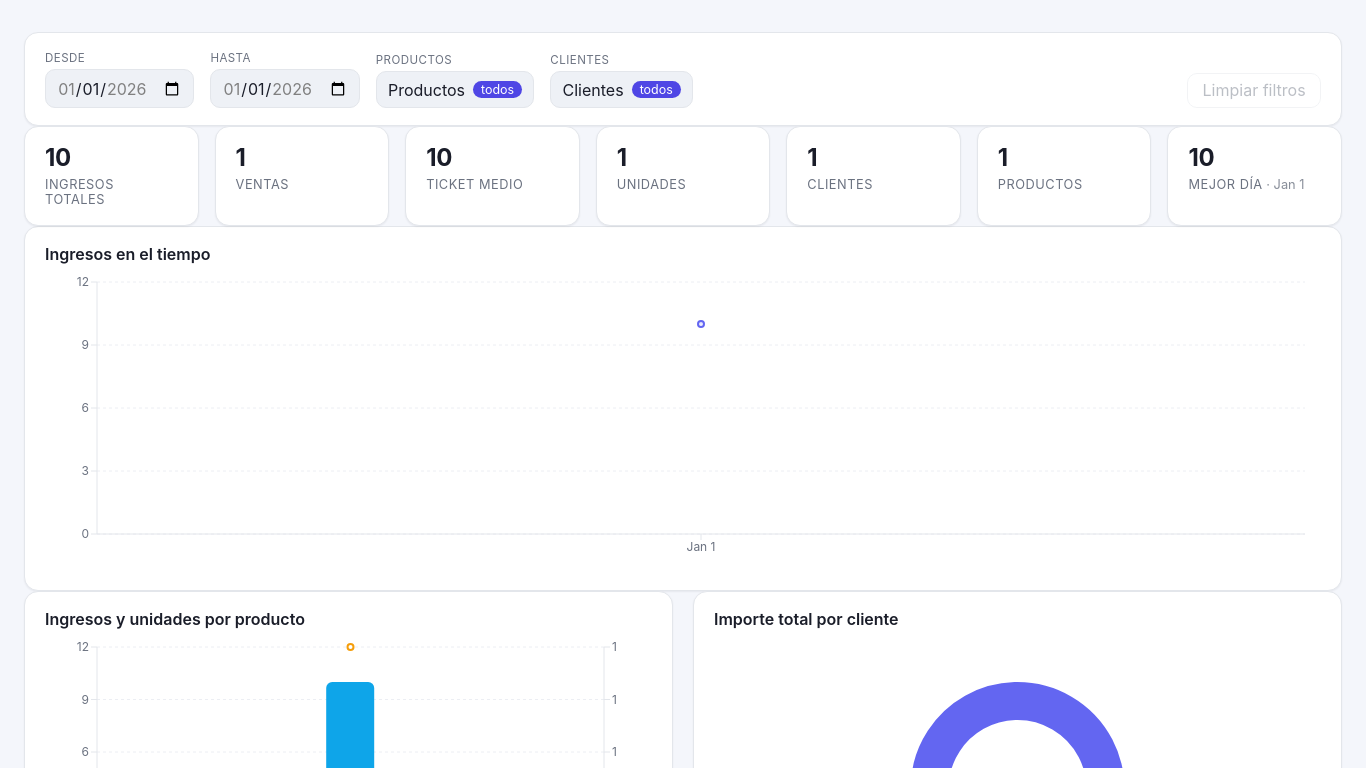
Dashboard › shows the empty-filter state when the date range excludes all sales
Type "2027-01-01" into the date field labelled "Desde". click: (120, 89)
box: top-left (45, 69), bottom-right (194, 108)
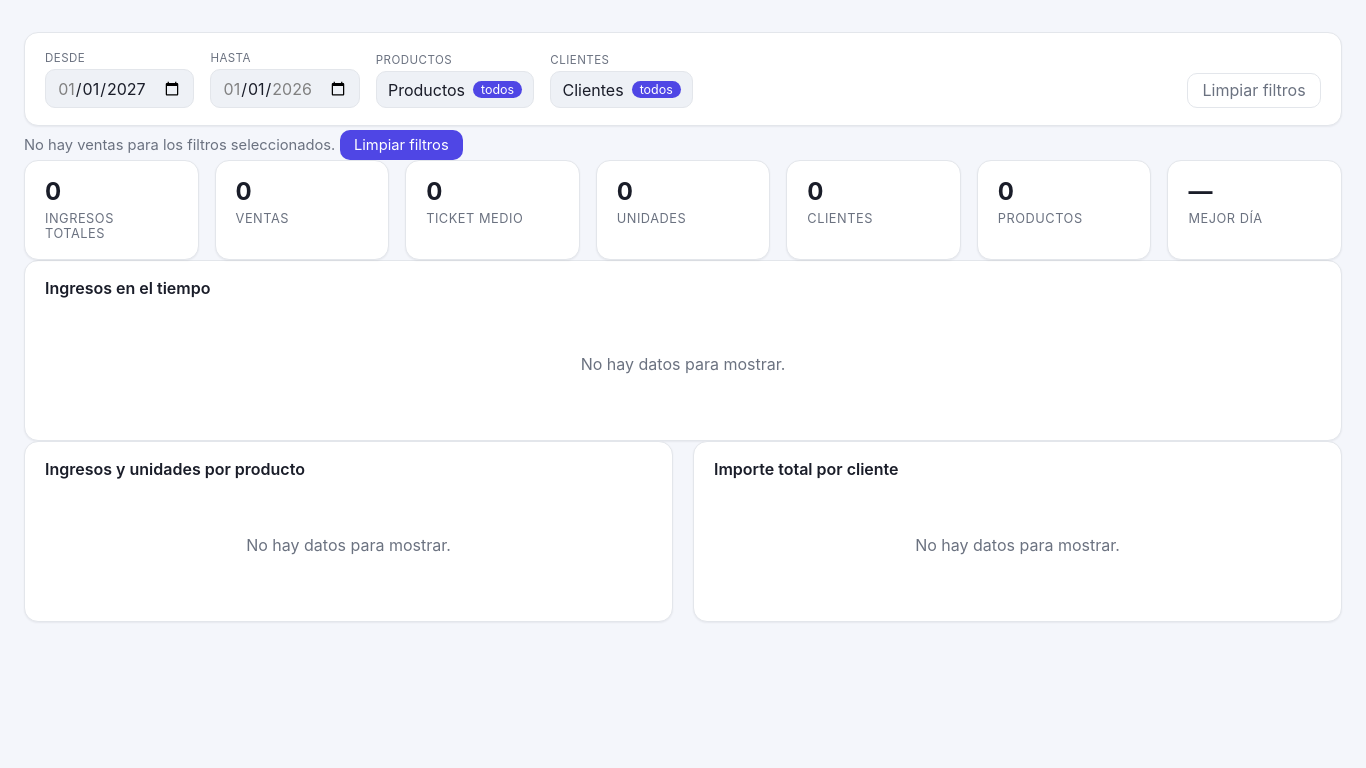
Expected: the text "No hay ventas para los filtros seleccionados. Limpiar filtros" is shown, top-left (24, 130), bottom-right (463, 160)
